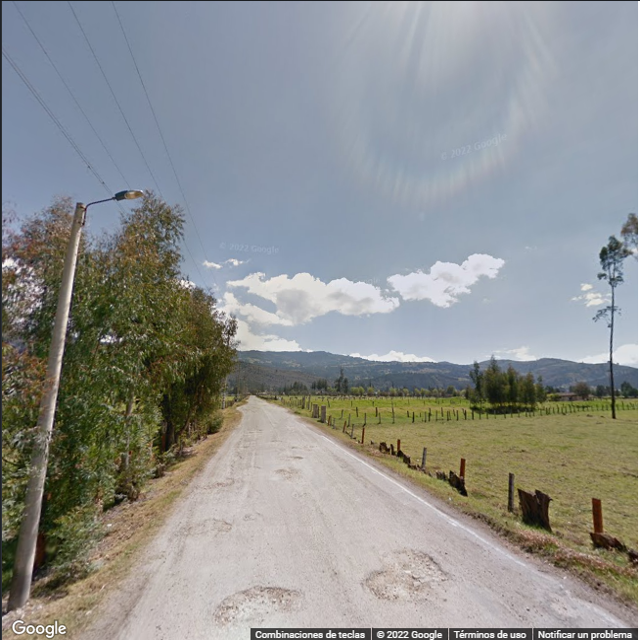D00: (306, 490, 342, 547)
D40: (363, 549, 439, 606), (208, 583, 305, 624)
